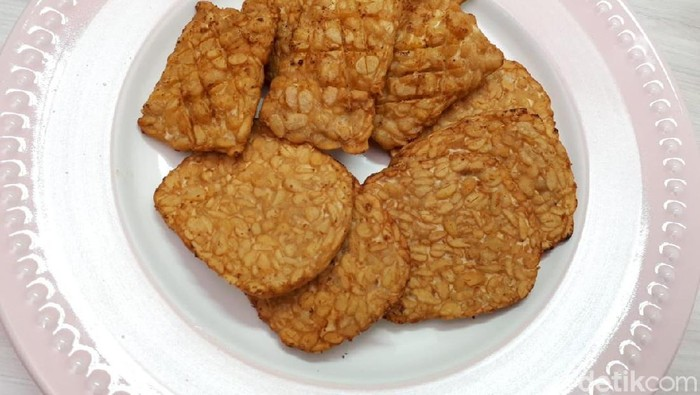Tempe: (384, 163, 547, 319), (243, 220, 405, 366), (118, 9, 271, 152), (252, 8, 425, 132), (413, 88, 566, 186), (180, 163, 328, 263), (370, 38, 495, 118)
